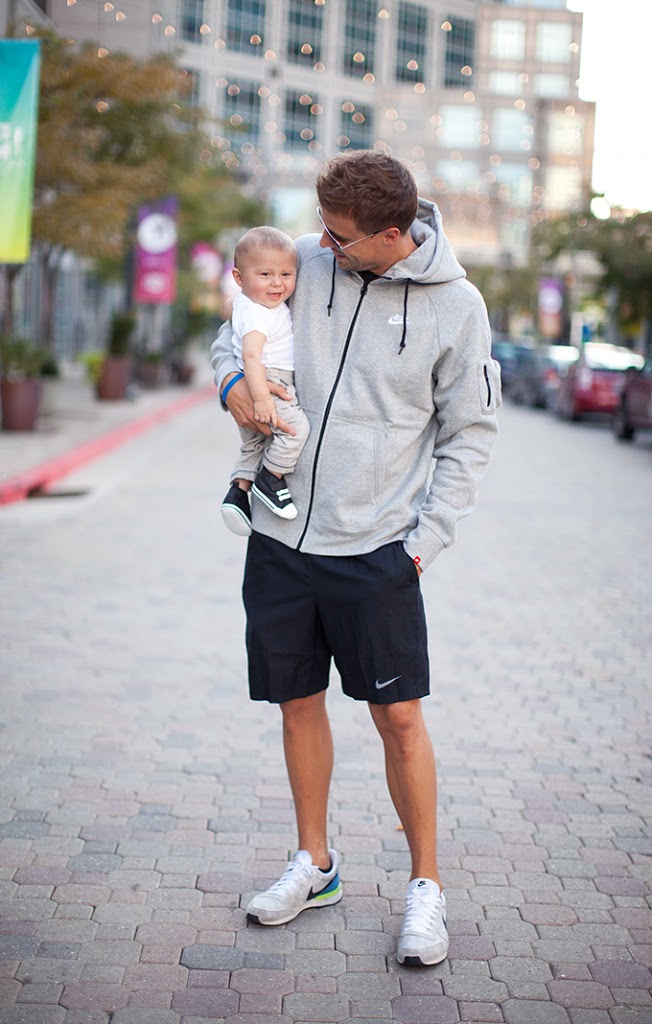Person: (212, 151, 500, 968), (224, 223, 311, 538)
